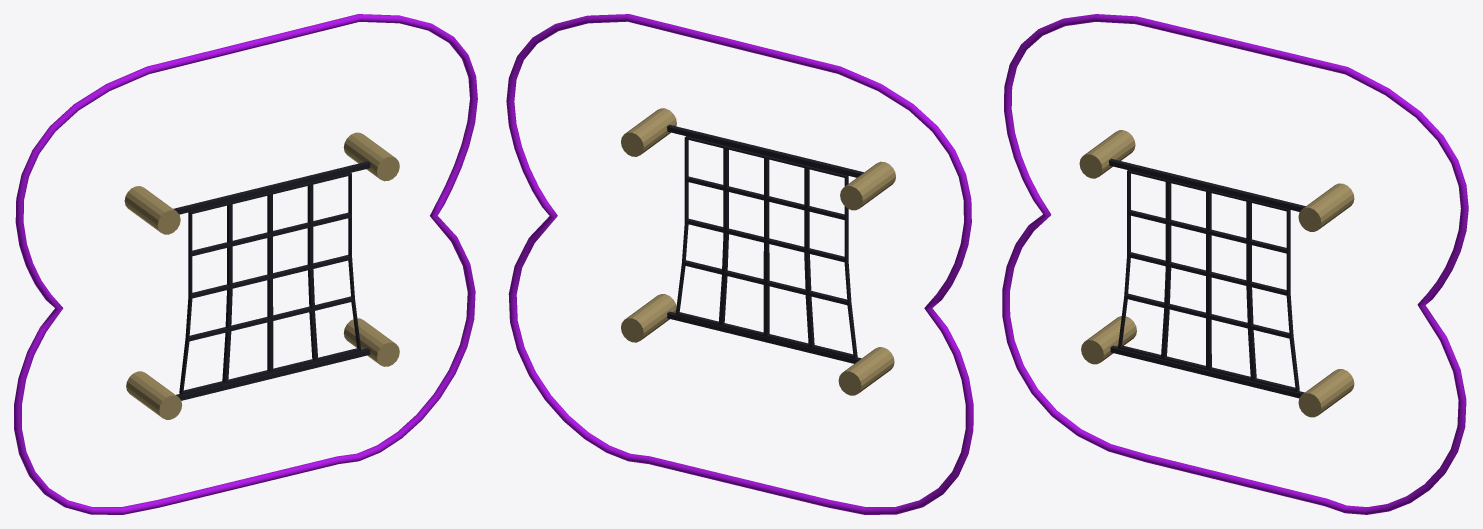
Rendered from adanat-23218.glb.
The picture shows the model from 3 angles, left to right: view 1: azimuth 30°, elevation 25°; view 2: azimuth 150°, elevation 25°; view 3: azimuth 330°, elevation 25°; orthographic projection.
Parts seen in each view (by area): view 1: _outline.024, Plane.002, Cube.115, Cylinder.176, Cylinder.179, Cylinder.177, Cylinder.178, Cube.116; view 2: _outline.024, Plane.002, Cylinder.176, Cube.115, Cylinder.179, Cylinder.178, Cylinder.177, Cube.116; view 3: _outline.024, Plane.002, Cube.115, Cylinder.178, Cylinder.177, Cylinder.176, Cylinder.179, Cube.116.
Part boxes in pixels (box(x1,y1,x2,y2)): _outline.024: box(14, 14, 477, 514); Plane.002: box(179, 173, 361, 394); Cube.115: box(173, 161, 370, 214); Cylinder.176: box(124, 186, 180, 234); Cylinder.179: box(126, 371, 181, 419); Cylinder.177: box(343, 132, 399, 181); Cylinder.178: box(343, 318, 399, 366); Cube.116: box(176, 348, 370, 400); _outline.024: box(506, 14, 973, 514); Plane.002: box(675, 136, 857, 358); Cylinder.176: box(840, 161, 895, 210); Cube.115: box(667, 125, 863, 177); Cylinder.179: box(838, 347, 894, 395); Cylinder.178: box(621, 294, 676, 342); Cylinder.177: box(621, 108, 676, 156); Cube.116: box(667, 311, 861, 363); _outline.024: box(1002, 14, 1468, 514); Plane.002: box(1118, 170, 1299, 391); Cube.115: box(1109, 158, 1305, 211); Cylinder.178: box(1298, 369, 1354, 417); Cylinder.177: box(1298, 183, 1354, 231); Cylinder.176: box(1079, 130, 1135, 178); Cylinder.179: box(1081, 316, 1136, 364); Cube.116: box(1110, 345, 1304, 398).
Bounding box in the file's own units: 4.05 × 3.72 × 0.5589.
